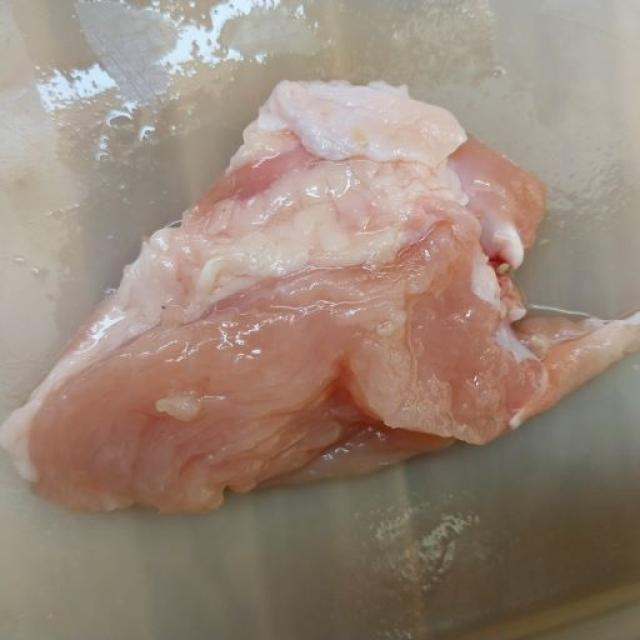chicken: (0, 77, 639, 516)
